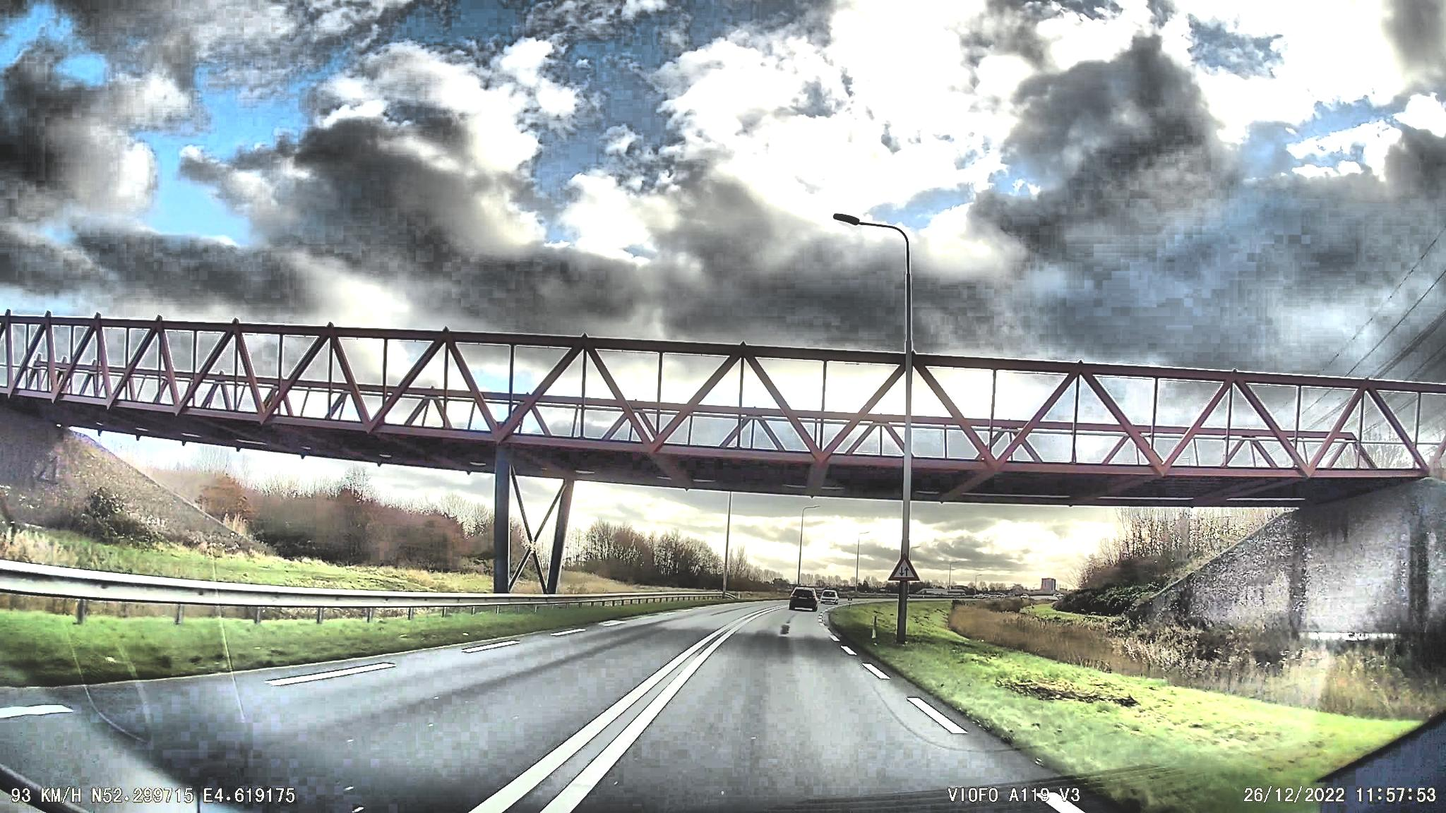Roads: (0, 605, 1102, 813)
